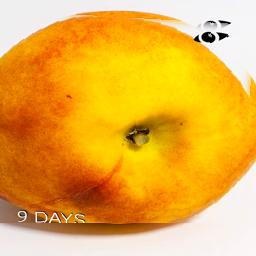Peach Fresh: (1, 11, 256, 224)
